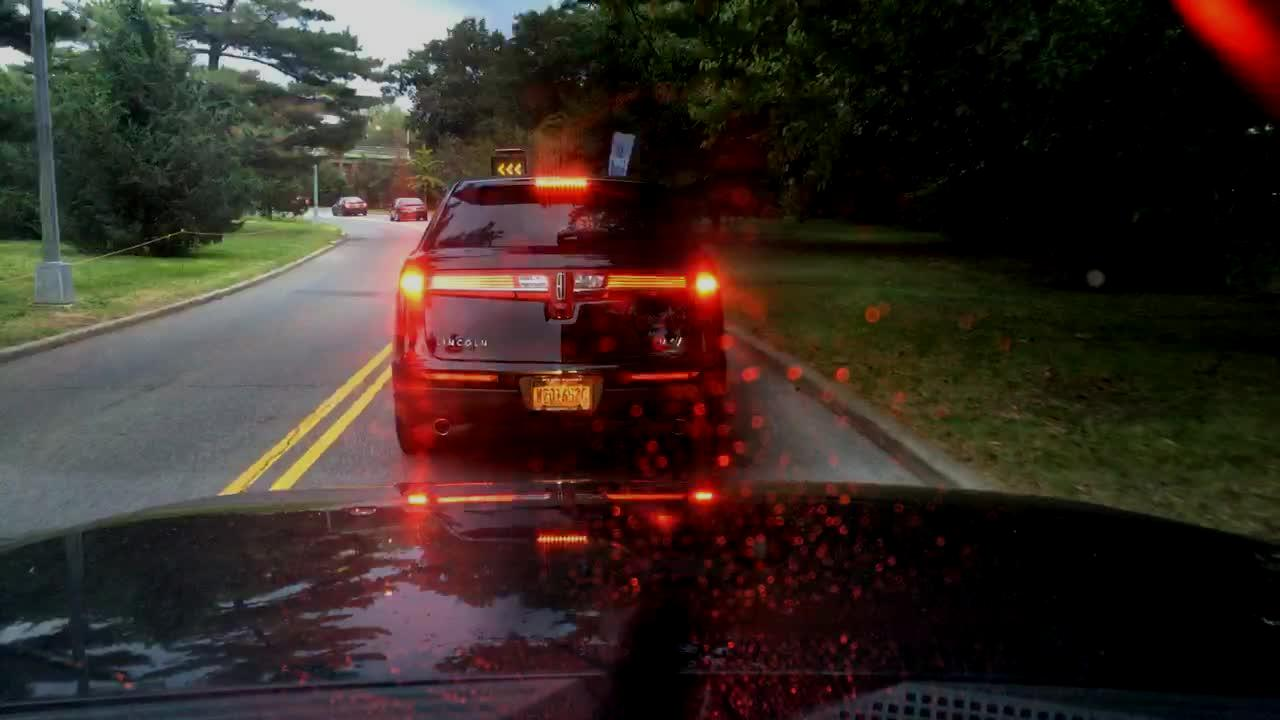lincoln: (549, 264, 572, 307)
